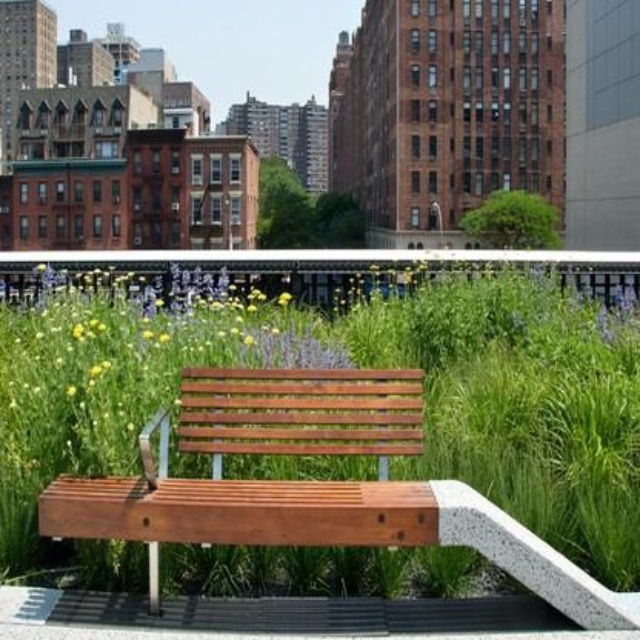obstacle: (134, 351, 445, 592)
